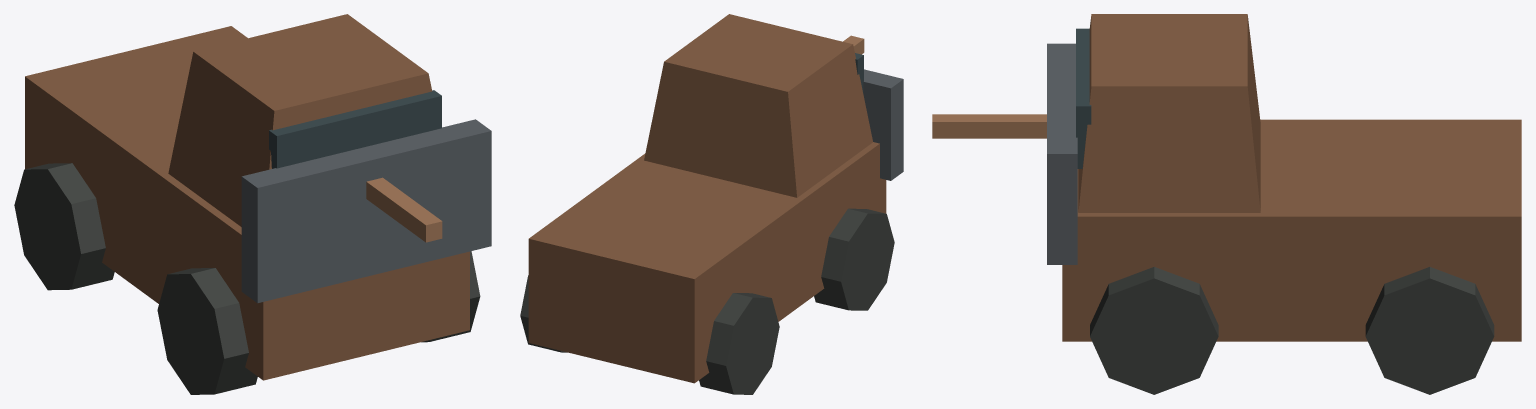
File: wm_party_raider.glb
3 views of the same model, side by side, from view 1: azimuth 30°, elevation 25°; view 2: azimuth 150°, elevation 25°; view 3: azimuth 270°, elevation 25° (orthographic). The views are drawn at different scales.
Visible parts, largest first — view 1: hull, plate, cab, wheel2, wheel0, glass, spike, wheel1; view 2: hull, cab, wheel0, wheel2, plate, wheel3; view 3: hull, cab, wheel3, wheel1, plate, spike, glass.
Boxes of the visible parts, x1,y1,x2,y2 form: hull: (25,26,469,380); plate: (241,119,491,303); cab: (168,14,431,226); wheel2: (14,163,114,290); wheel0: (157,268,257,394); glass: (269,90,441,168); spike: (366,177,442,242); wheel1: (421,251,480,342); hull: (528,142,886,383); cab: (644,14,872,197); wheel0: (814,208,894,310); wheel2: (699,293,779,394); plate: (863,69,903,180); wheel3: (520,275,567,352); hull: (1062,119,1521,341); cab: (1078,14,1260,212); wheel3: (1365,267,1494,394); wheel1: (1090,267,1218,394); plate: (1047,43,1077,264); spike: (932,114,1046,138); glass: (1076,28,1091,168).
Bounding box in the file's own units: 1.86 × 2.05 × 3.85.
